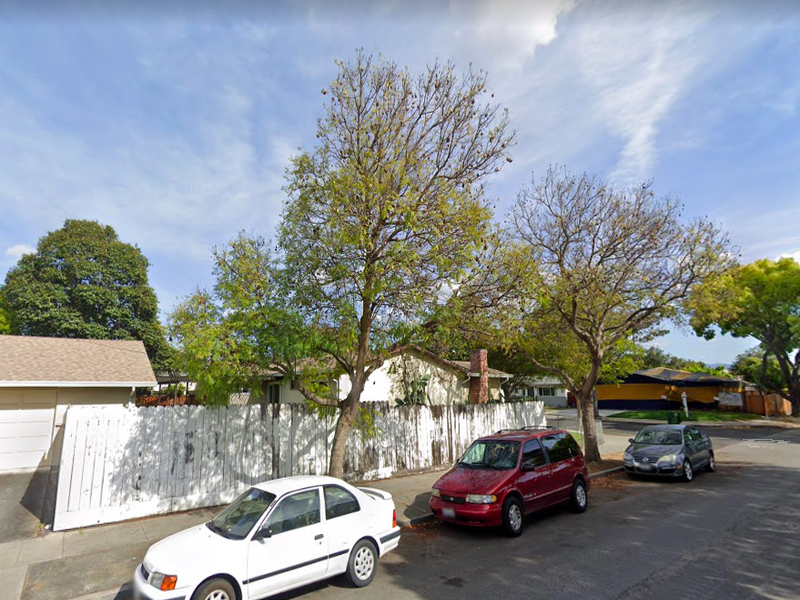tree: (274, 45, 517, 488), (460, 162, 742, 463)
